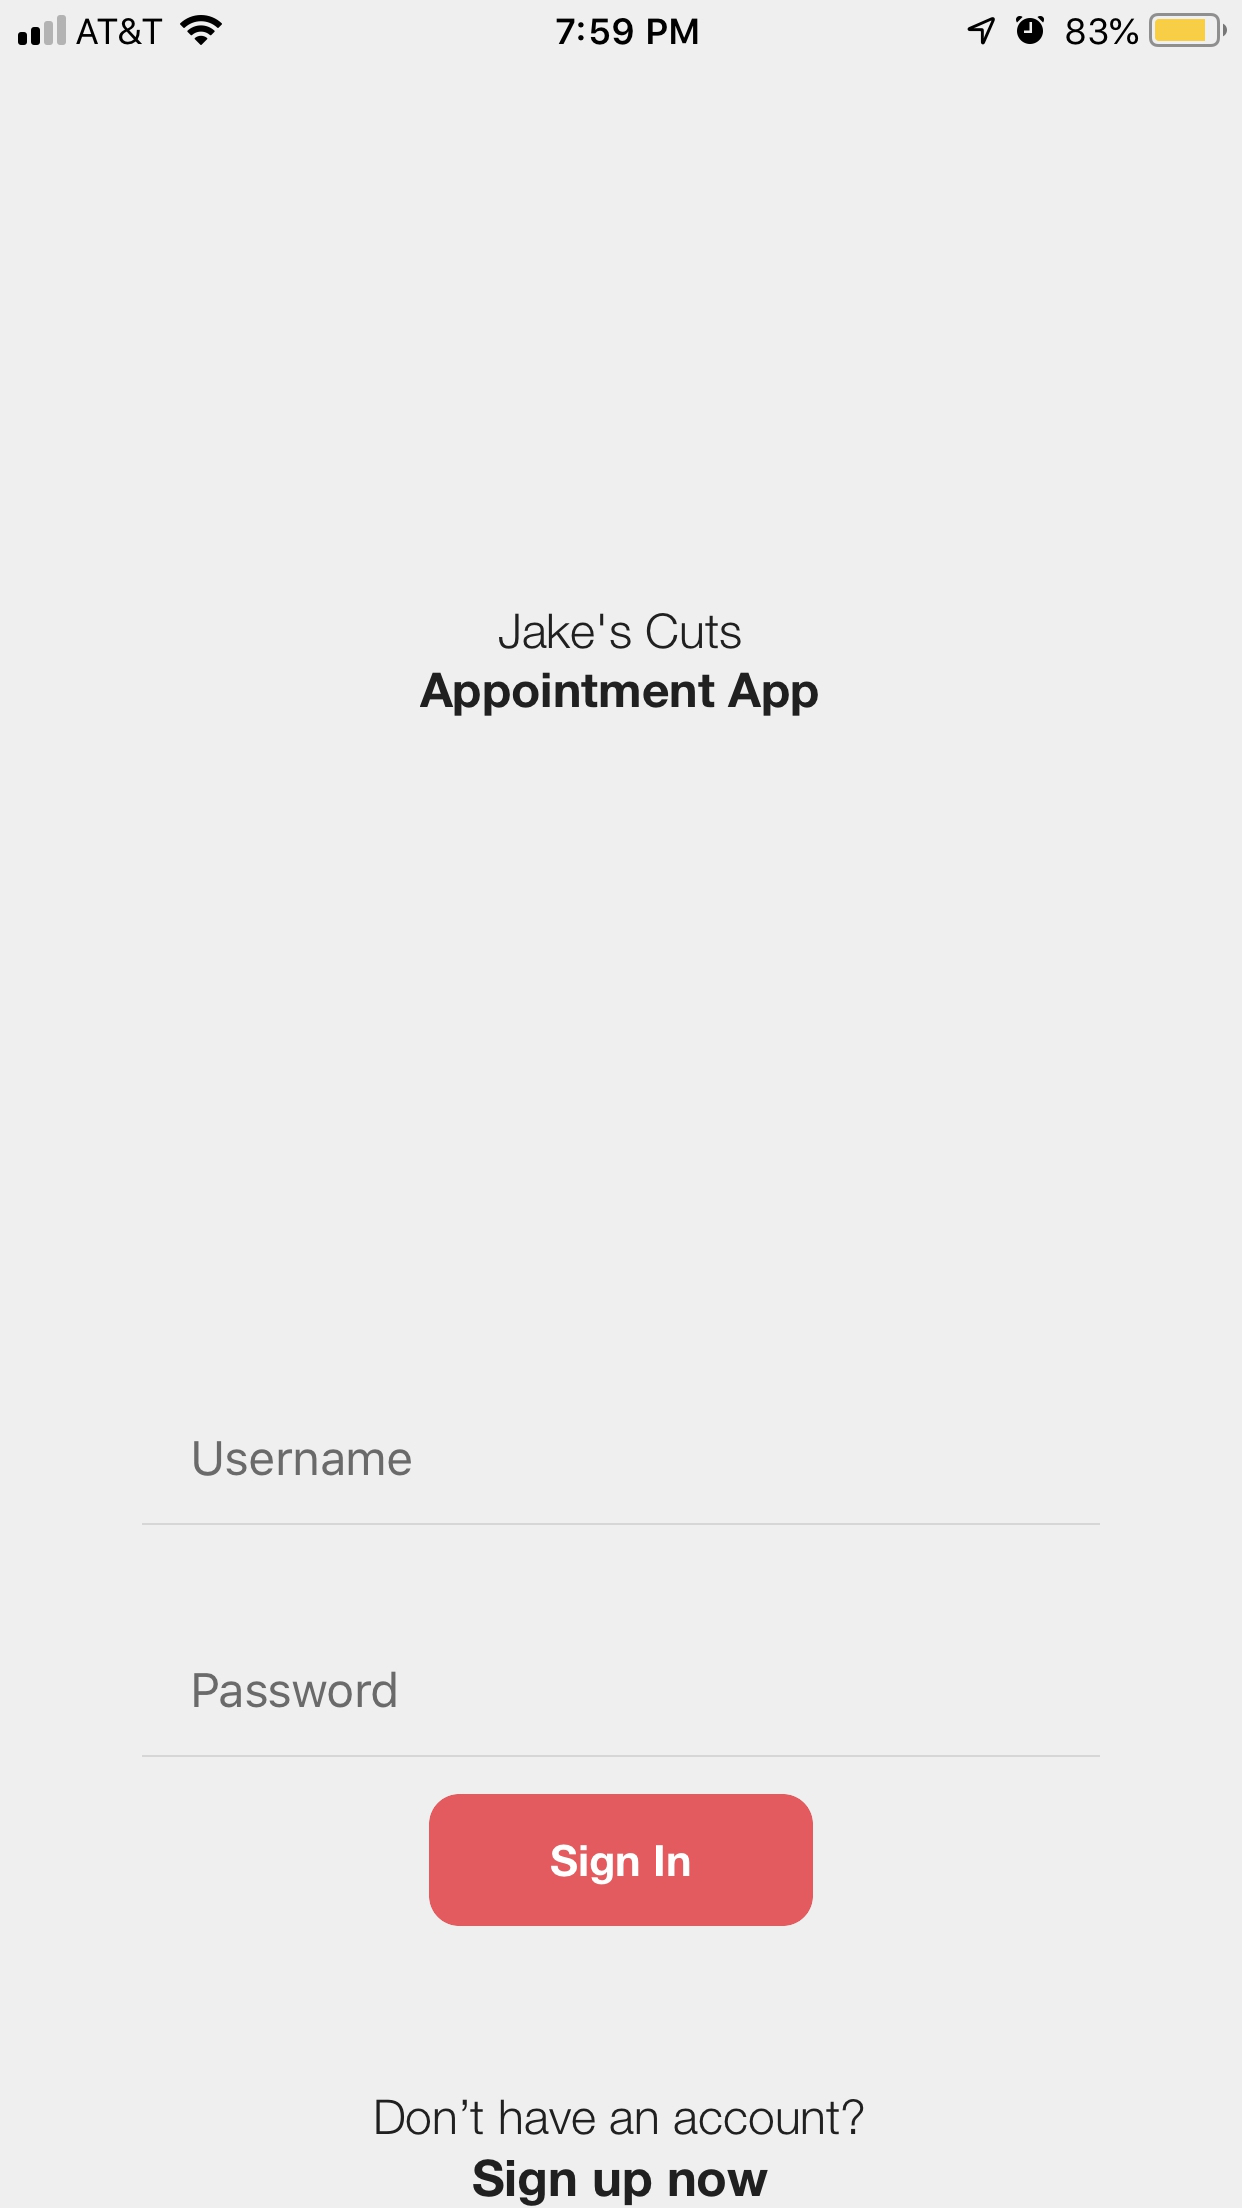EditText: (143, 1670, 1101, 1758), (143, 1441, 1101, 1526)
Text: (376, 2097, 864, 2137), (420, 672, 819, 717), (472, 2158, 769, 2206), (497, 613, 742, 651), (194, 1441, 412, 1477), (194, 1671, 397, 1709)
TextButton: (429, 1794, 814, 1927)
UpperTaskBar: (2, 2, 1242, 49)
